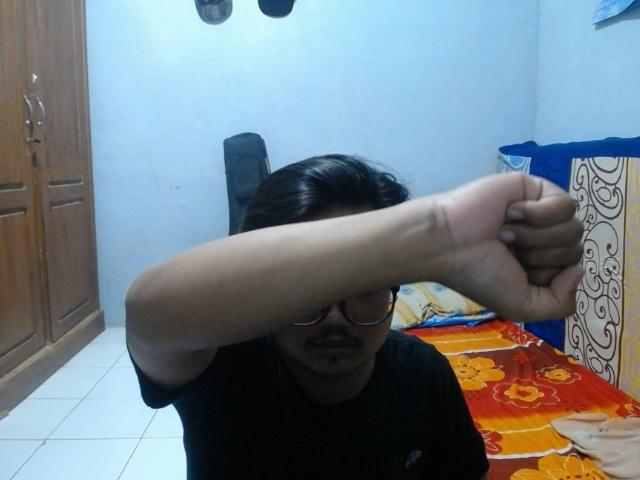Grab: (438, 161, 590, 327)
